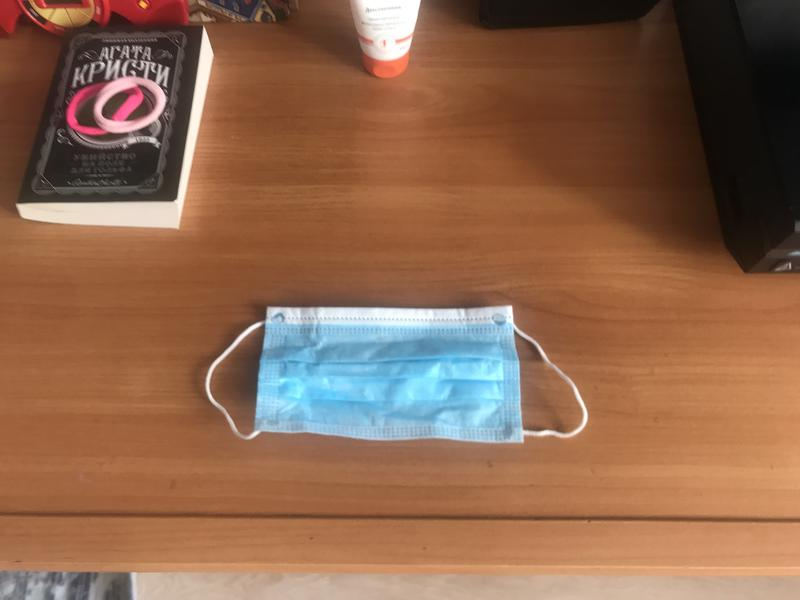medical_mask: (205, 303, 588, 448)
